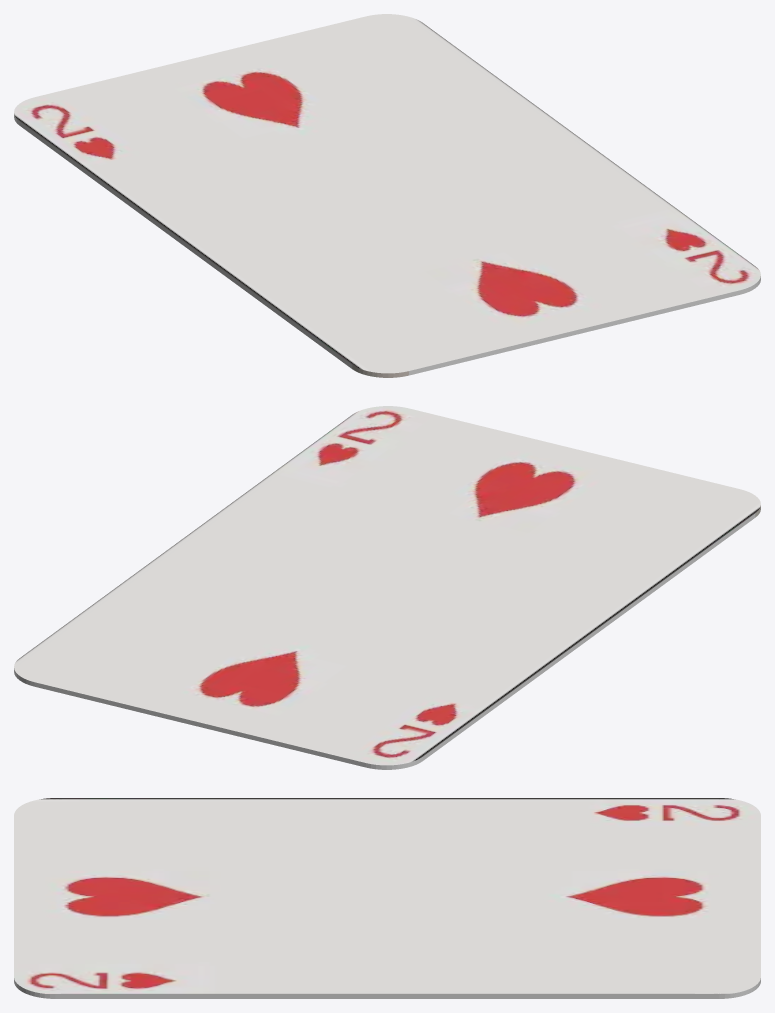
File: 2 of hearts.fbx
3 renders of one model, top to bottom at view 1: azimuth 30°, elevation 25°; view 2: azimuth 150°, elevation 25°; view 3: azimuth 270°, elevation 25°, orthographic.
Visible parts, largest first — view 1: Cube; view 2: Cube; view 3: Cube.
Part boxes in pixels (x1,y1,x2,y2): Cube: [14, 14, 760, 377]; Cube: [14, 406, 760, 769]; Cube: [14, 798, 760, 998].
Size of the model in its own units: 5.6 by 0.06 by 9.
3 materials, 2 textured.
